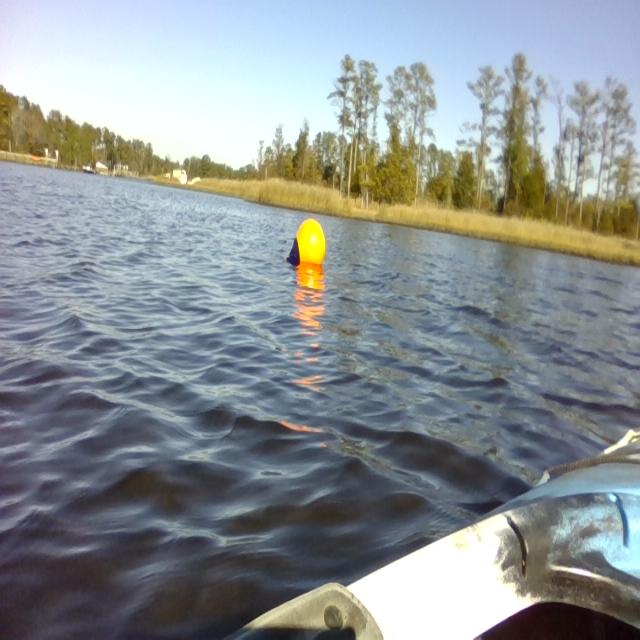Buoy: (284, 215, 332, 276)
